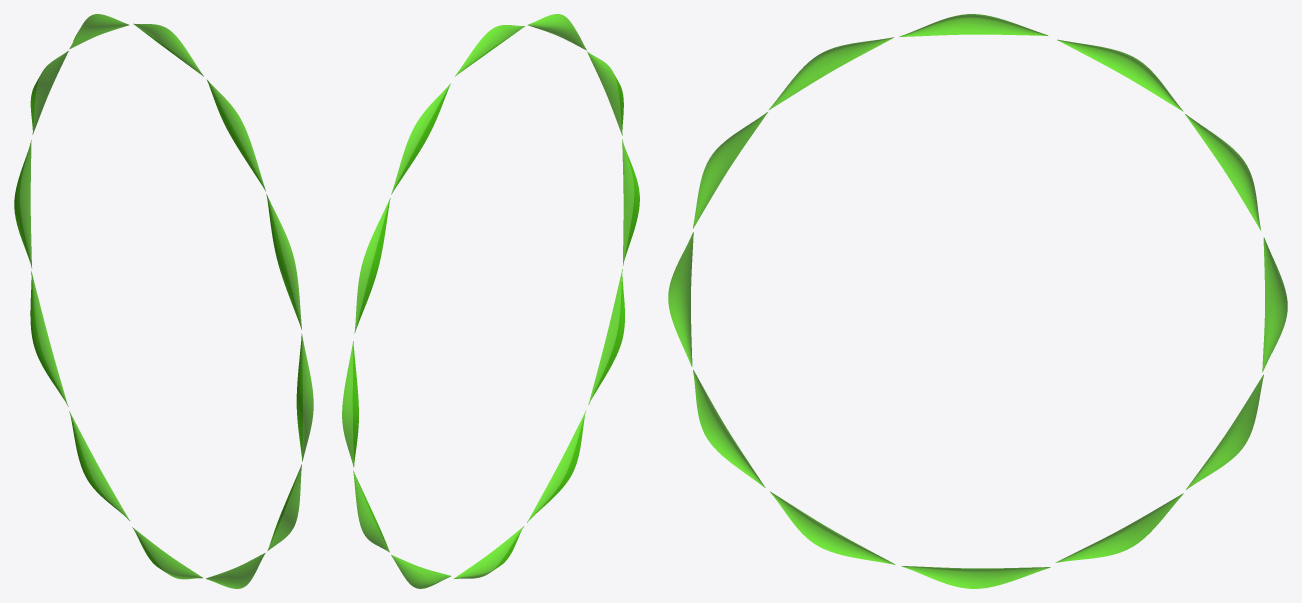
The model's file is selection_ring.fbx.
3 views of the same model, side by side, from view 1: azimuth 30°, elevation 25°; view 2: azimuth 150°, elevation 25°; view 3: azimuth 270°, elevation 25° (orthographic). The views are drawn at different scales.
Visible parts, largest first — view 1: ring2, ring8, ring3, ring1, ring9, ring7, ring10, ring4, ring6, ring0, ring11, ring5; view 2: ring10, ring4, ring9, ring11, ring3, ring5, ring2, ring6, ring8, ring0, ring7, ring1; view 3: ring6, ring0, ring7, ring9, ring1, ring5, ring11, ring3, ring8, ring2, ring10, ring4.
Boxes of the visible parts, x1,y1,x2,y2 form: ring2: (266,194,301,329); ring8: (30,271,68,406); ring3: (296,333,313,461); ring1: (206,79,265,191); ring9: (14,140,32,268); ring7: (69,411,129,520); ring10: (30,51,68,134); ring4: (267,464,301,550); ring6: (132,527,202,579); ring0: (133,23,203,76); ring11: (69,14,129,48); ring5: (206,553,265,588); ring10: (354,198,390,333); ring4: (588,269,624,404); ring9: (342,341,358,467); ring11: (391,83,450,194); ring3: (622,139,639,265); ring5: (527,410,586,522); ring2: (587,51,623,135); ring6: (454,526,523,578); ring8: (353,470,389,552); ring0: (455,25,524,76); ring7: (391,554,451,588); ring1: (527,14,586,50); ring6: (901,566,1050,588); ring0: (899,14,1048,36); ring7: (1055,493,1183,562); ring9: (1262,237,1287,372); ring1: (769,37,893,109); ring5: (770,491,895,564); ring11: (1057,39,1183,111); ring3: (668,232,693,366); ring8: (1186,374,1263,489); ring2: (692,112,767,228); ring10: (1185,114,1260,230); ring4: (693,370,765,487).
Size of the model in its own units: 0.2885 by 12.95 by 12.64.
